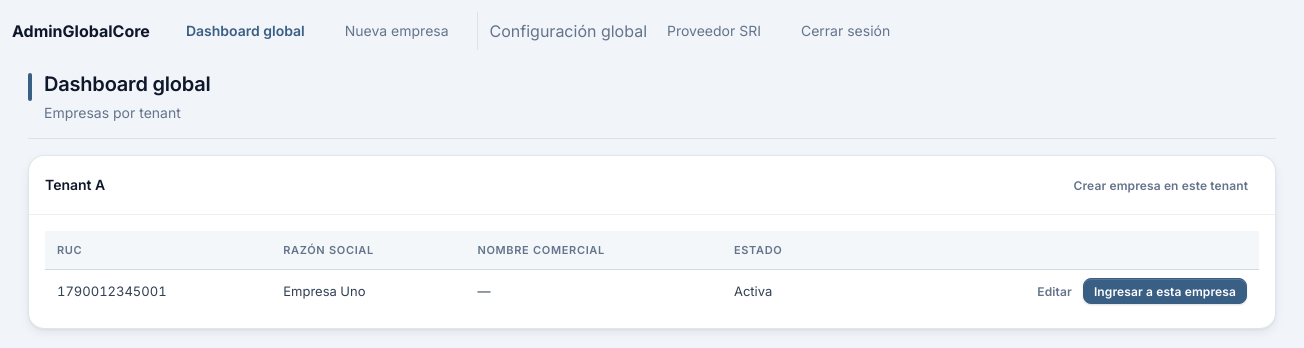
Test: AdminGlobalCore → Ingresar a esta empresa (árbol real de rutas) › tras operate-company termina en /dashboard operativo, no en /admin-core/login
Click the button "Ingresar a esta empresa": click(1165, 291) [1083,278,1247,304]
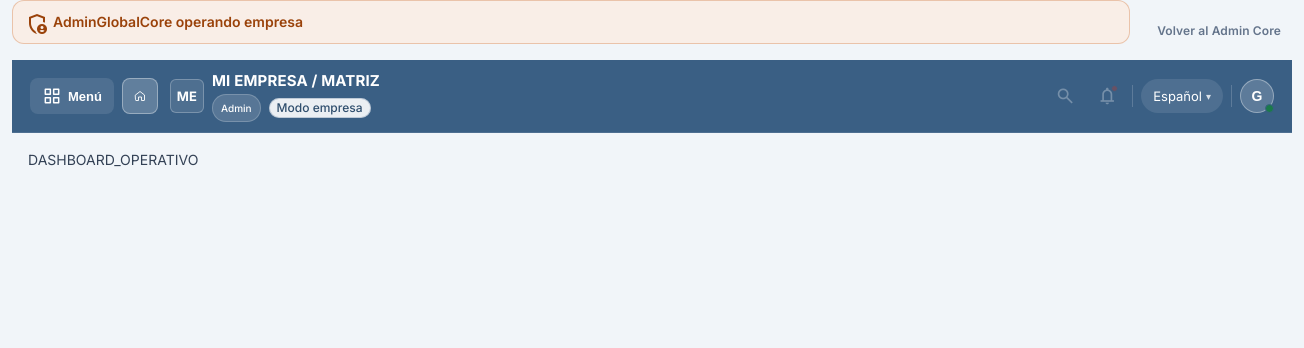
Expected: the text "DASHBOARD_OPERATIVO" is shown, [28,151,198,168]
Expected: the element with class "zh-app-tenantHeader" is shown, [12,60,1292,133]
Expected: the text "AdminGlobalCore operando empresa" is shown, [53,11,303,33]
